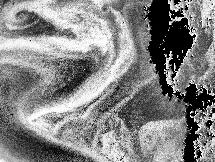CE: (2, 1, 41, 32)
